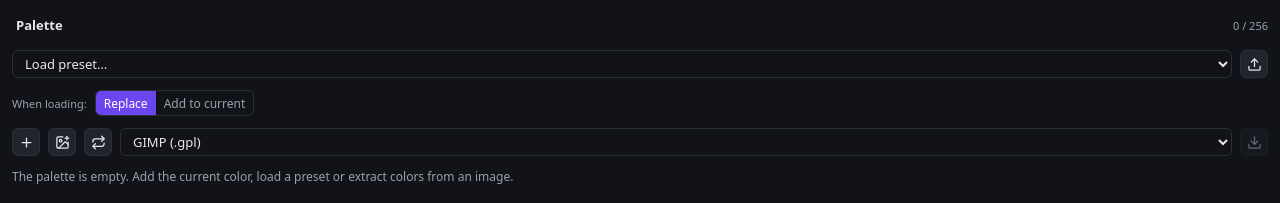
Test case: PalettePanel › renames the palette
This screenshot has width=1280, height=203.
Click the button with aria-label "Palette: Palette". click: [39, 25]
box: [12,12,67,38]
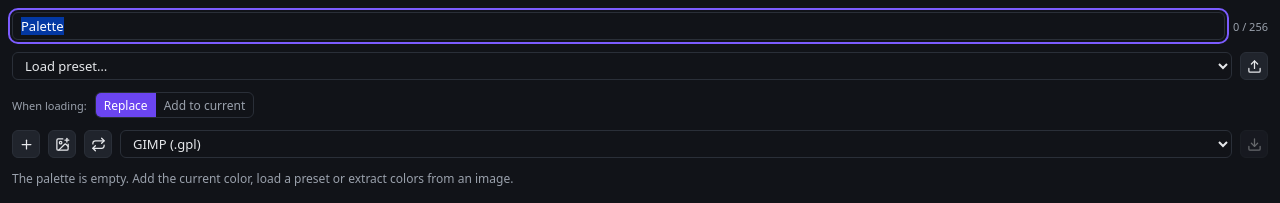
Replace the text in the field named "Palette name" with "Forest". click: [618, 26]
box: [12,12,1225,40]
Then press Enter
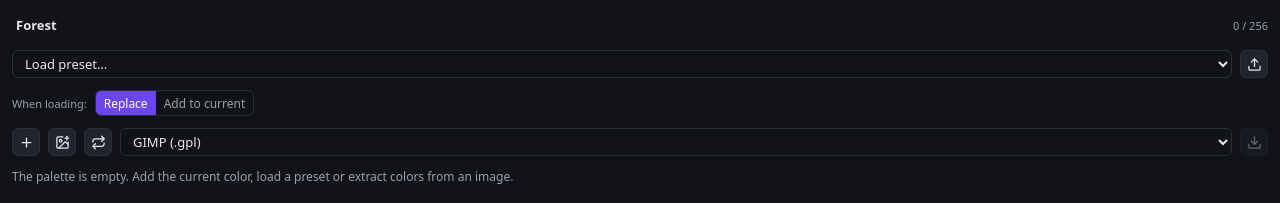
Check: the button "Forest" is shown, box [12,12,61,38]
